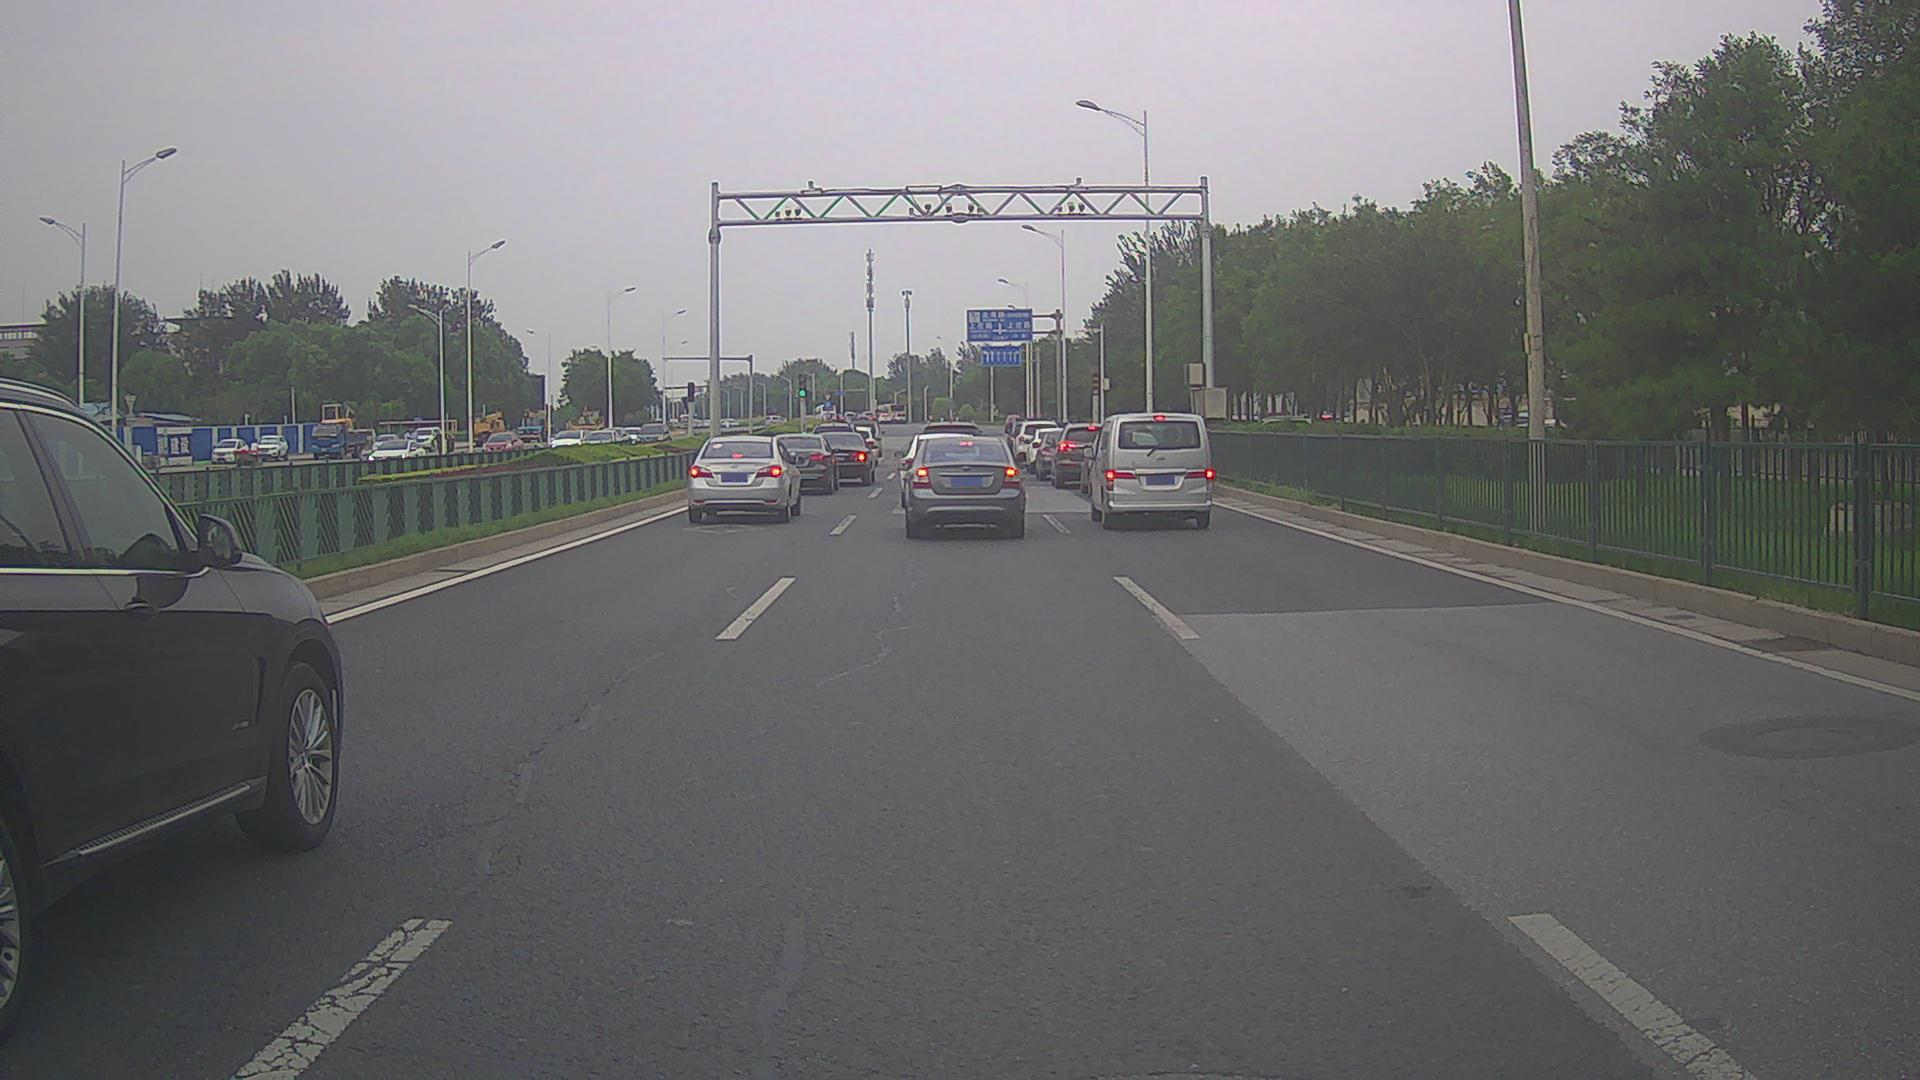bus: (876, 402, 906, 423), (816, 403, 835, 417)
car: (2, 379, 346, 1033), (898, 437, 1028, 539), (685, 434, 805, 524), (1049, 421, 1123, 491), (767, 432, 841, 496), (811, 430, 879, 486), (1009, 419, 1062, 468), (368, 439, 427, 466), (479, 430, 524, 457), (253, 433, 289, 464), (210, 437, 248, 464), (634, 421, 673, 448), (407, 426, 445, 454), (550, 428, 590, 452), (369, 433, 401, 452), (893, 411, 908, 424), (876, 413, 892, 424)
ignore: (893, 419, 983, 505), (1024, 427, 1063, 480), (812, 419, 886, 444), (1494, 412, 1569, 431), (586, 425, 638, 444), (1257, 412, 1313, 427), (1000, 413, 1020, 450), (668, 414, 711, 428), (812, 413, 874, 422), (762, 413, 789, 426), (718, 417, 740, 427)
pedestrian: (949, 411, 959, 431), (926, 413, 934, 429), (938, 415, 945, 428)
tricyclelist: (232, 438, 262, 468)
truck: (308, 422, 368, 461), (467, 403, 510, 447), (515, 406, 554, 443), (567, 403, 607, 435)
van: (1082, 412, 1213, 529)
